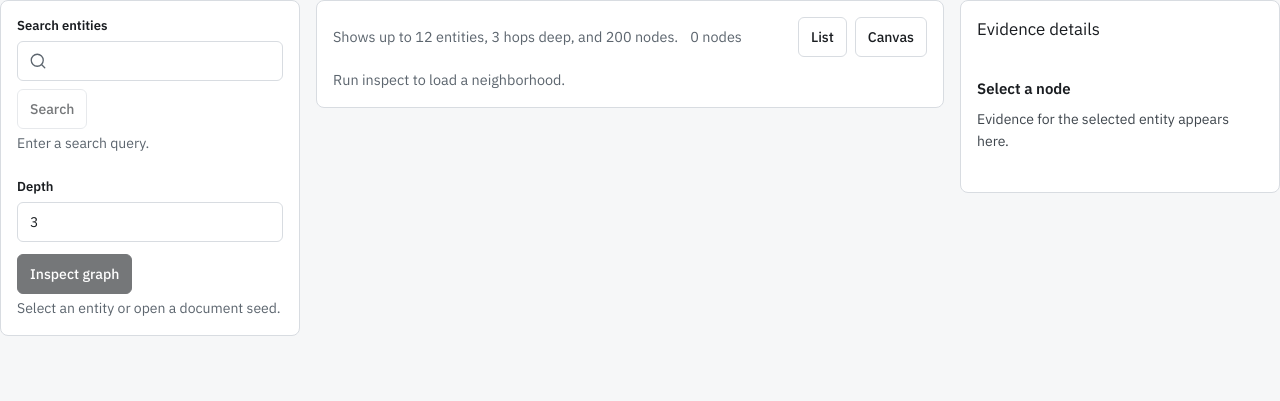
Test case: GraphExplorer › distinguishes graph outage from ACL blindness
Type "acme" into the field labelled "Search entities" at (150, 61), box [17,41,283,81]
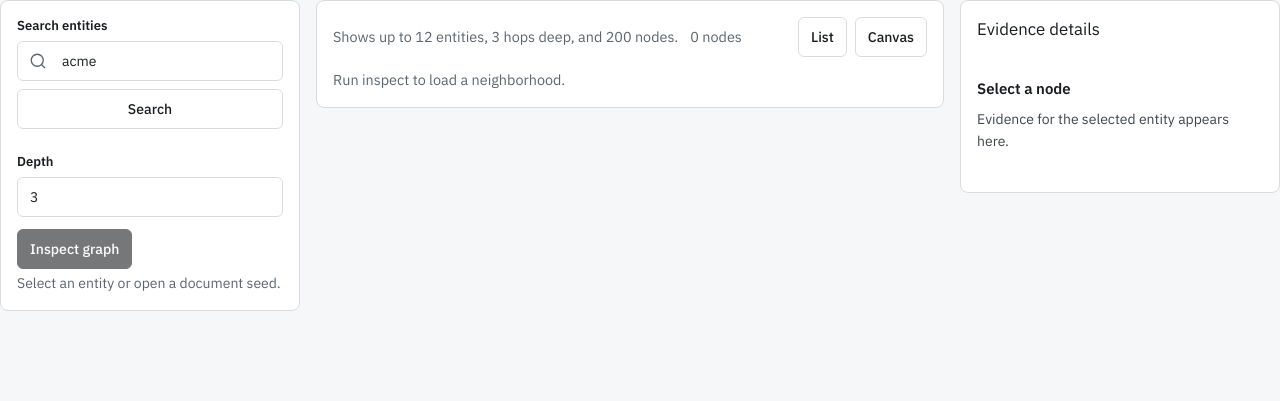
Click the button "Search" at (150, 109), box [17,89,283,129]
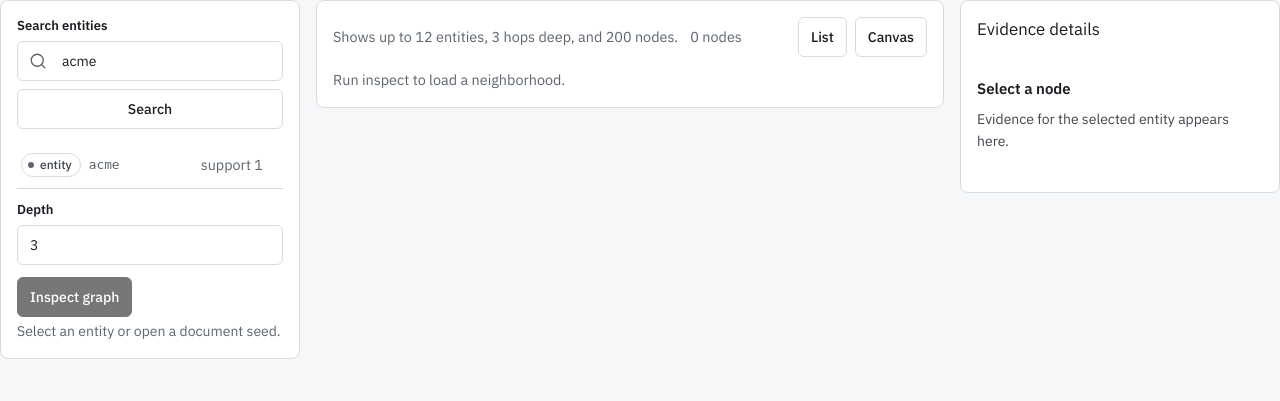
Click the button "entity acme support 1" at (51, 164), box [17,141,283,189]
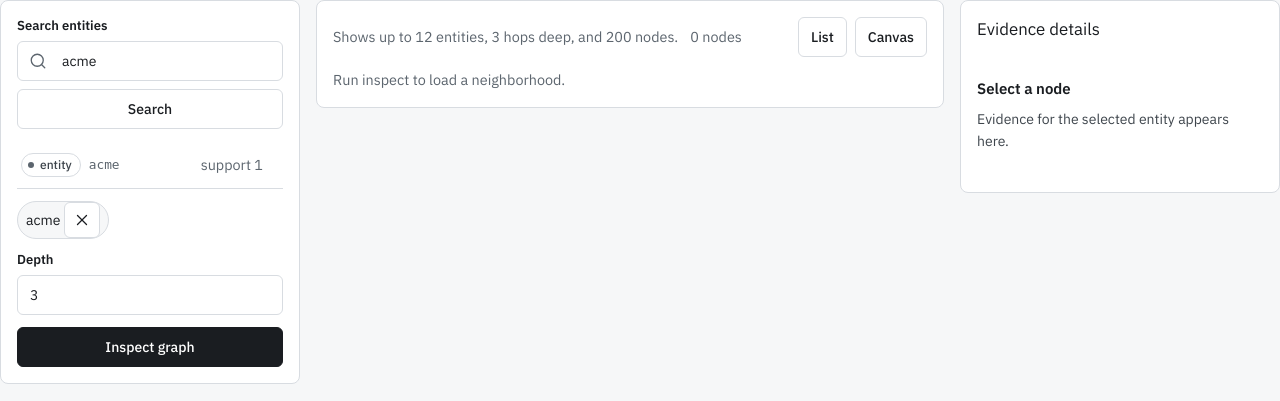
Click the button "Inspect graph" at (150, 347), box [17,327,283,367]
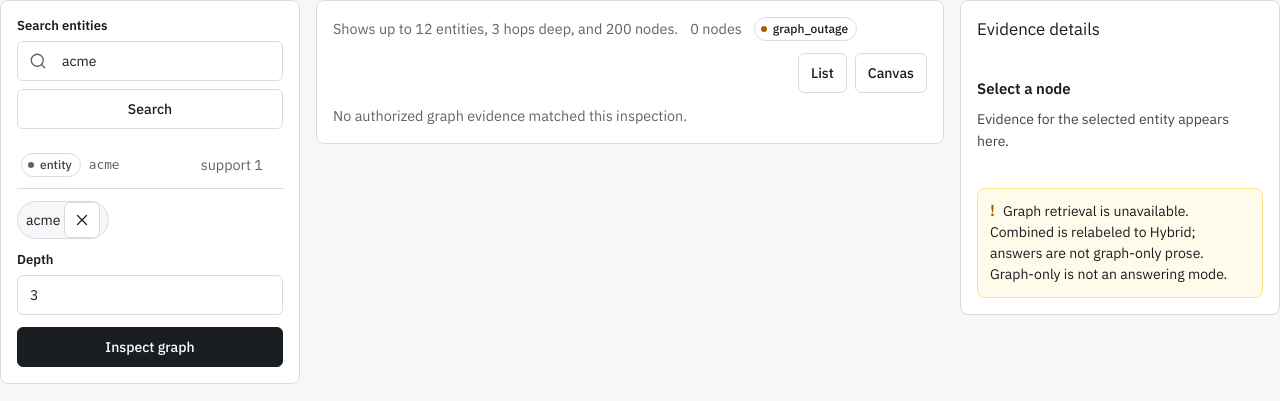
Expected: the text "Graph retrieval is unavailable. Combined is relabeled to Hybrid; answers are not graph-only prose." is shown, [990,202,1204,262]
